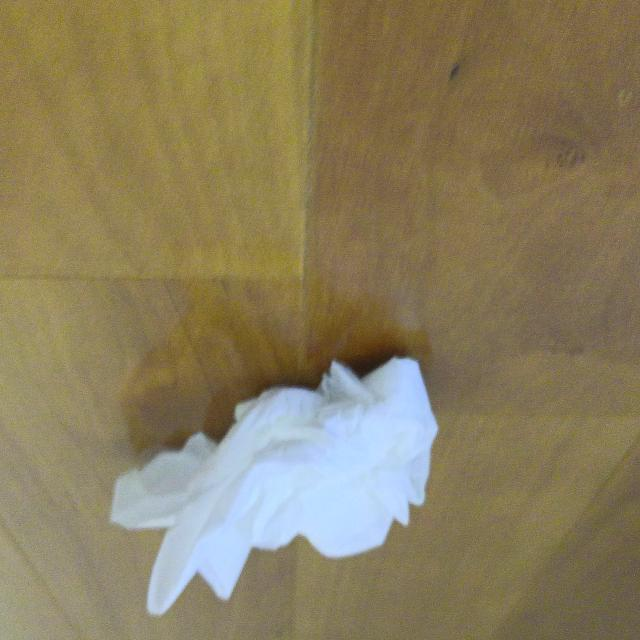Paper: (111, 358, 434, 621)
